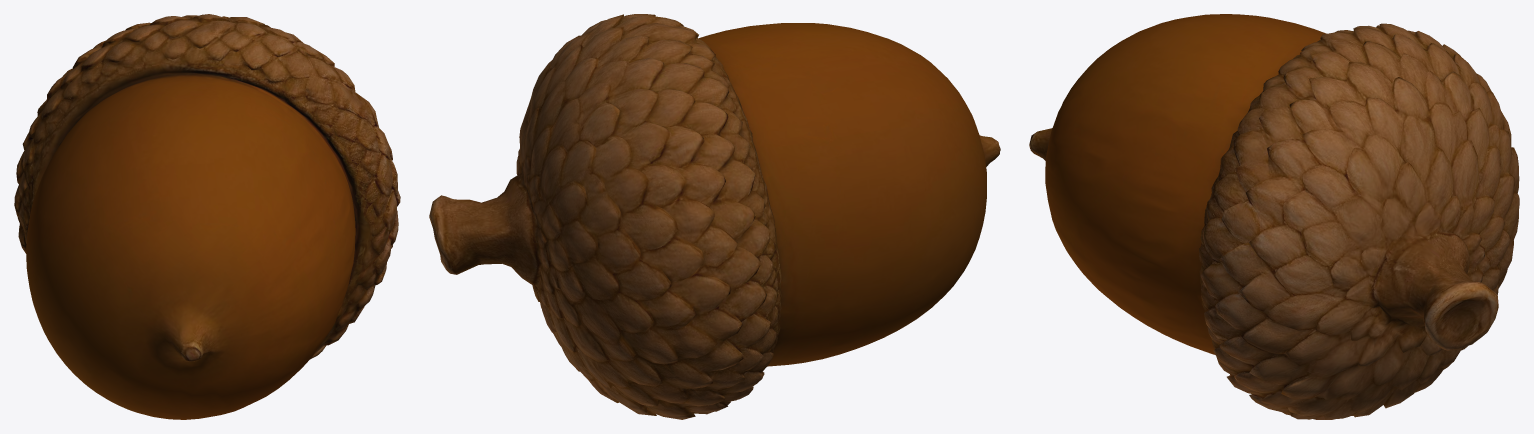
The picture shows the model from 3 angles, left to right: view 1: azimuth 30°, elevation 25°; view 2: azimuth 150°, elevation 25°; view 3: azimuth 270°, elevation 25°; orthographic projection. The views are drawn at different scales.
Parts seen in each view (by area): view 1: Mega acorn; view 2: Mega acorn; view 3: Mega acorn.
Boxes of the visible parts, <box> form: Mega acorn: <box>14,14,400,419</box>; Mega acorn: <box>429,14,1000,419</box>; Mega acorn: <box>1029,14,1519,419</box>.
Size of the model in its own units: 13 by 11.24 by 13.48.
Materials: 1 (1 with a texture image).
